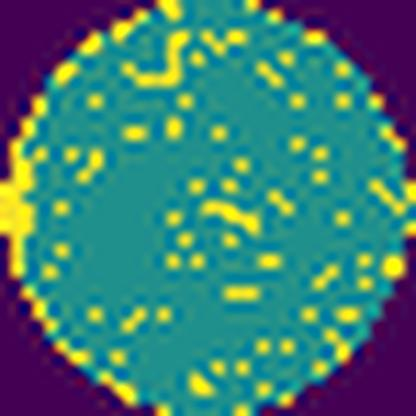Edge-Loc: (0, 95, 51, 279)
